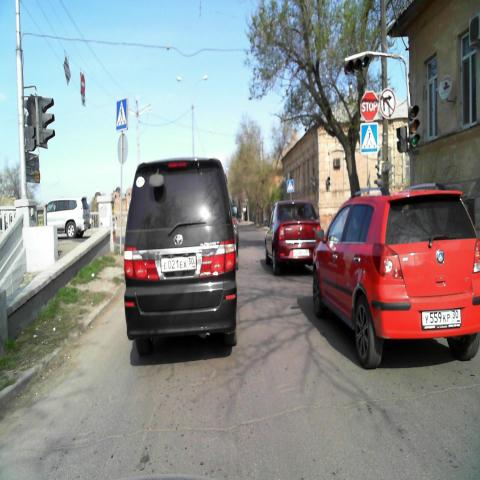3_18: (379, 86, 397, 116)
